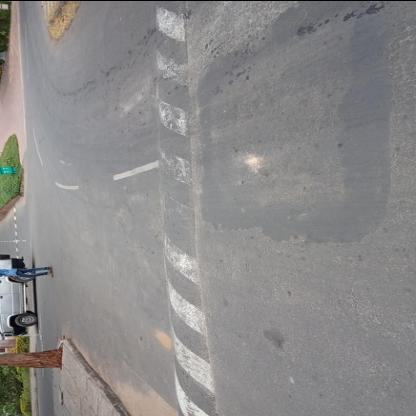speed-bumps: (146, 1, 224, 415)
